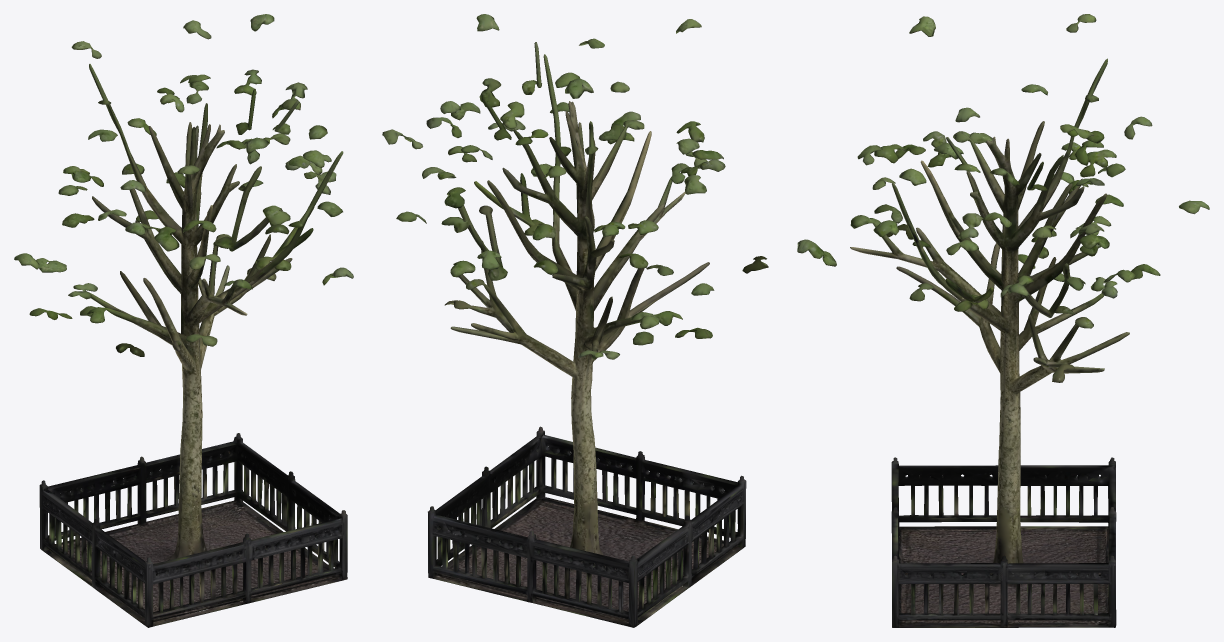
The model's file is street_tree.glb.
3 renders of one model, left to right at view 1: azimuth 30°, elevation 25°; view 2: azimuth 150°, elevation 25°; view 3: azimuth 270°, elevation 25°, orthographic. The views are drawn at different scales.
Parts seen in each view (by area): view 1: node_0; view 2: node_0; view 3: node_0.
Boxes of the visible parts, x1=… form: node_0: x1=14, y1=14, x2=353, y2=627; node_0: x1=382, y1=14, x2=768, y2=627; node_0: x1=797, y1=14, x2=1209, y2=627.
Size of the model in its own units: 0.6113 by 0.9982 by 0.6964.
1 material, 1 textured.
